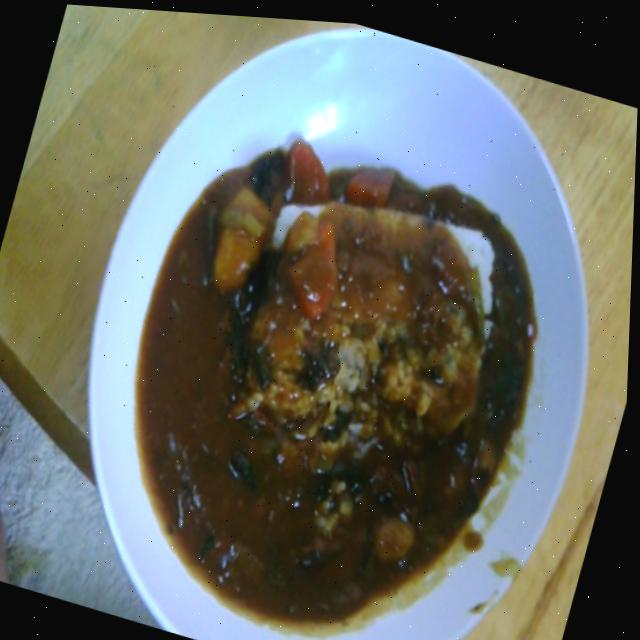牛肉菜式: (78, 86, 590, 640)
